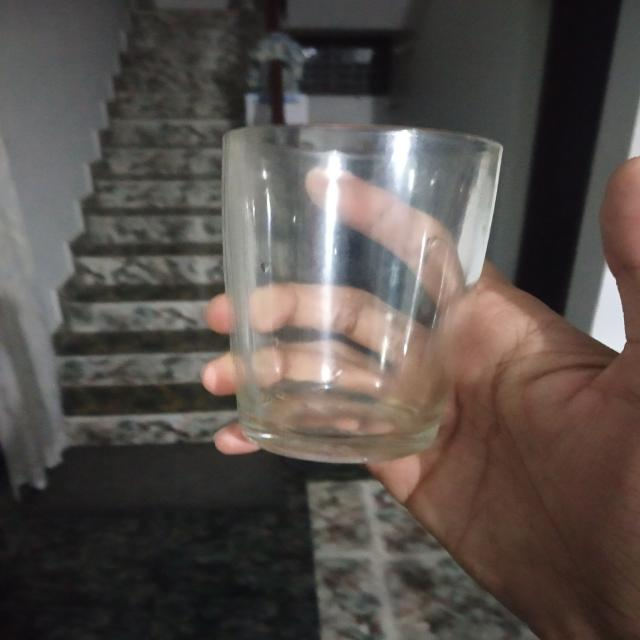Glass: (217, 118, 508, 466)
